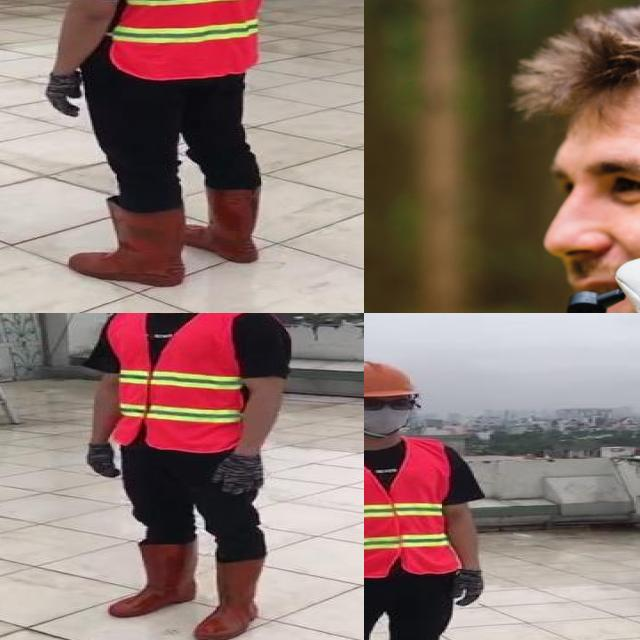Ear-protection: (521, 22, 640, 313)
boots: (73, 202, 188, 288), (105, 540, 195, 620), (177, 184, 266, 264), (190, 556, 264, 640)
face_mask: (364, 396, 415, 432)
glasses: (364, 393, 421, 413)
hand_glove: (206, 453, 265, 495), (42, 72, 85, 119), (453, 568, 495, 609), (87, 438, 122, 482)
head_helmet: (364, 358, 420, 399)
person: (33, 0, 287, 293), (73, 313, 299, 640), (364, 356, 492, 640)
vest: (101, 313, 255, 452), (92, 0, 280, 82), (364, 439, 461, 573)
